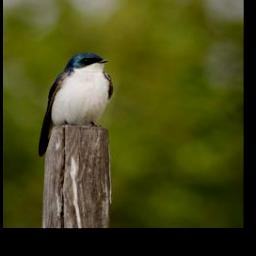Swallow: (38, 48, 116, 157)
